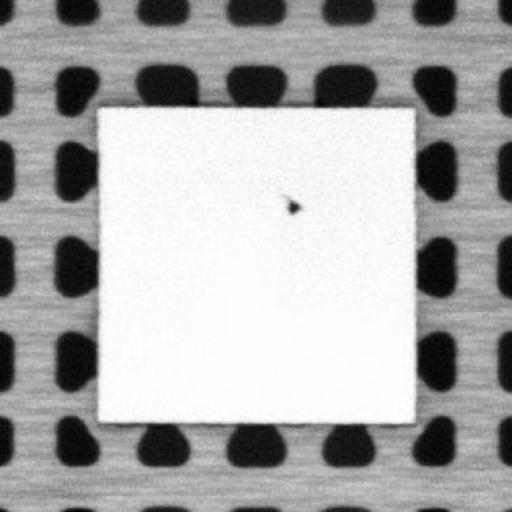DIE_INK: (280, 193, 301, 214)
